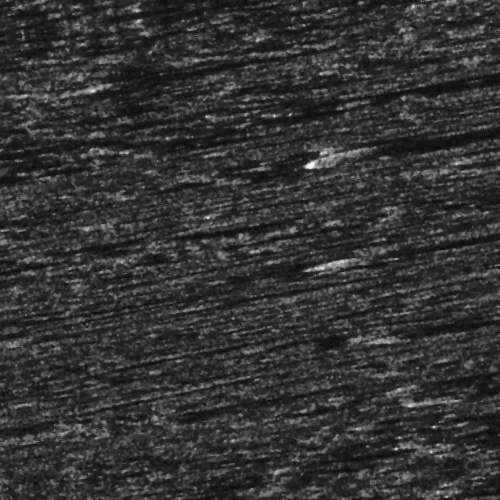object: (63, 55, 178, 68), (138, 220, 191, 231), (291, 272, 374, 279), (382, 468, 413, 477), (327, 167, 380, 172), (360, 408, 401, 411)
shadow: (121, 55, 326, 68), (165, 220, 278, 231), (332, 272, 500, 279), (354, 167, 500, 172), (398, 468, 459, 477), (381, 408, 500, 411), (0, 225, 60, 230)
